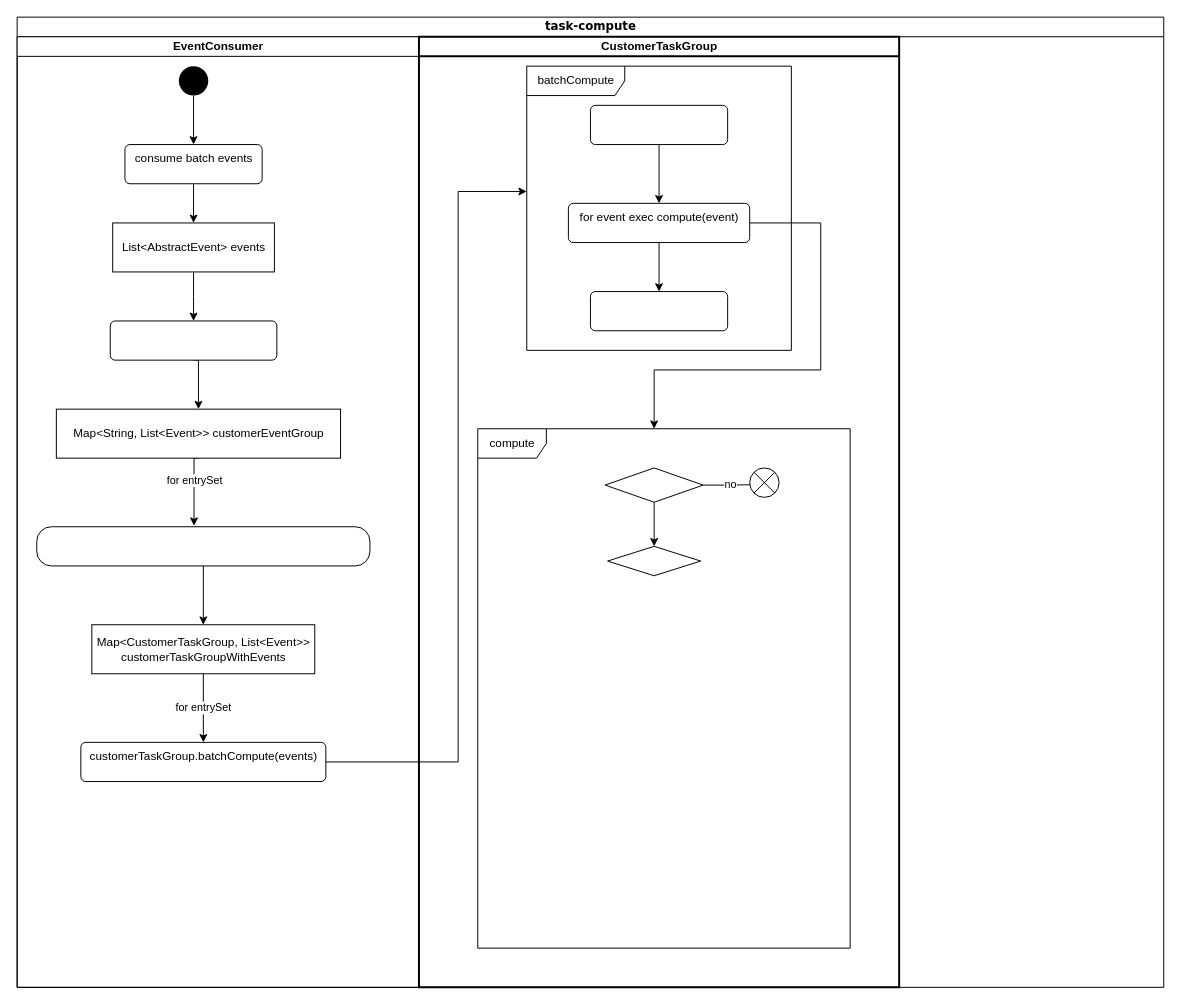
This 1181x1005 diagram has some shape labels left out. The centre of each missing label's shape, as x and y in pixels:
"groupByCustomerId(events)" belongs at (193,340).
"groupByCustomerTaskGroup(List<Event>,customerId)" belongs at (203,546).
"inTimeFrame" belongs at (653,484).
"isRepeat" belongs at (654,560).
"postBatchCompute" belongs at (658,311).
"preBatchCompute" belongs at (658,124).
